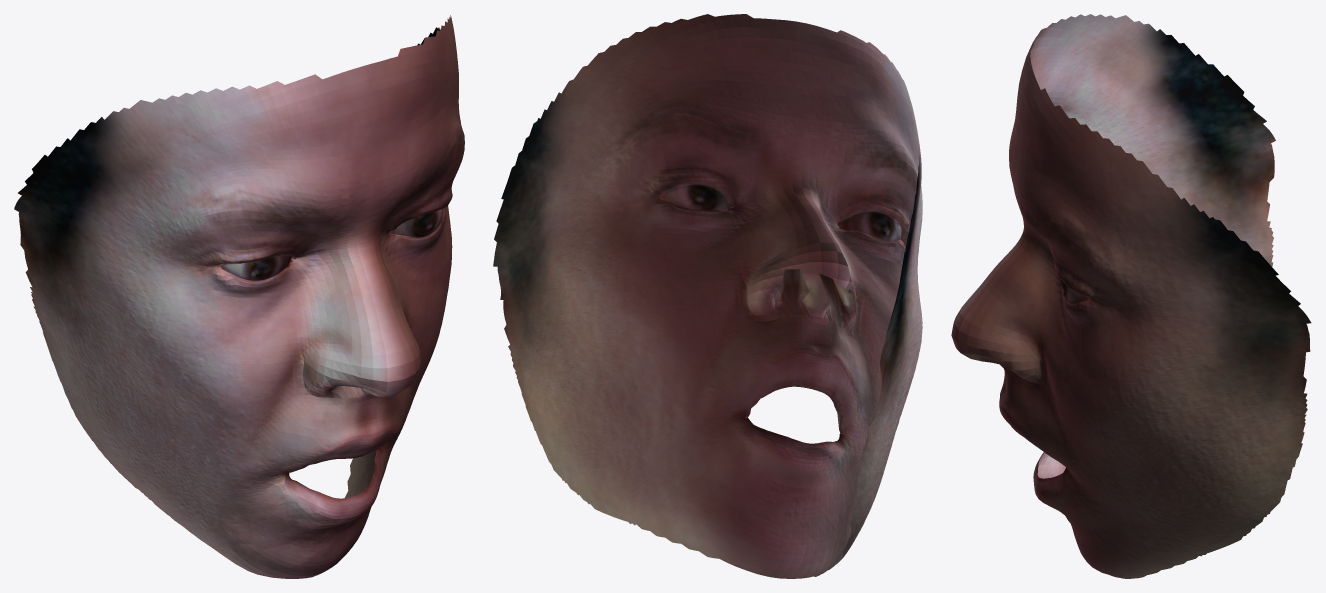
The model's file is photo0_mesh.obj.
3 views of the same model, side by side, from view 1: azimuth 30°, elevation 25°; view 2: azimuth 150°, elevation 25°; view 3: azimuth 270°, elevation 25° (orthographic). The views are drawn at different scales.
Size of the model in its own units: 1.35 by 1.75 by 1.11.
